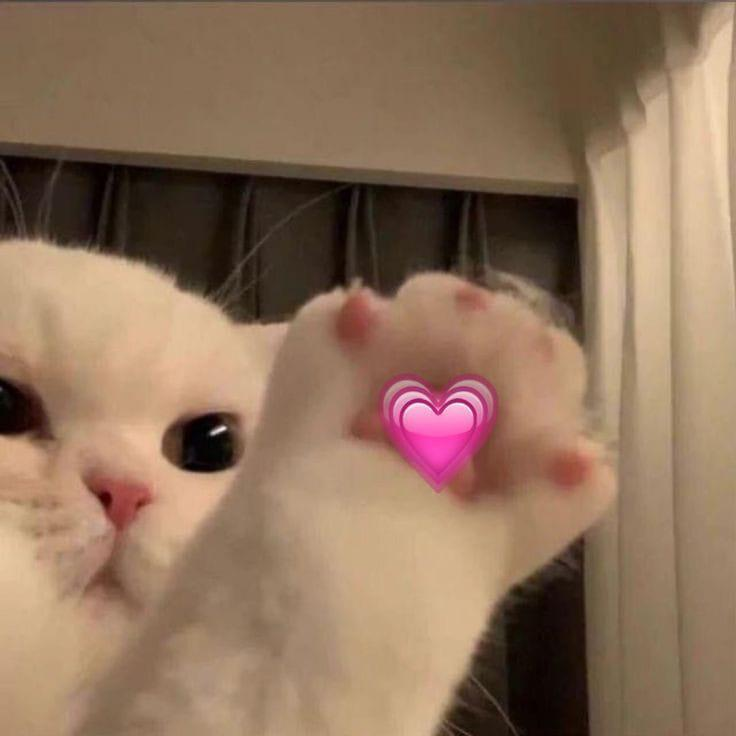kedo: (0, 237, 622, 731)
